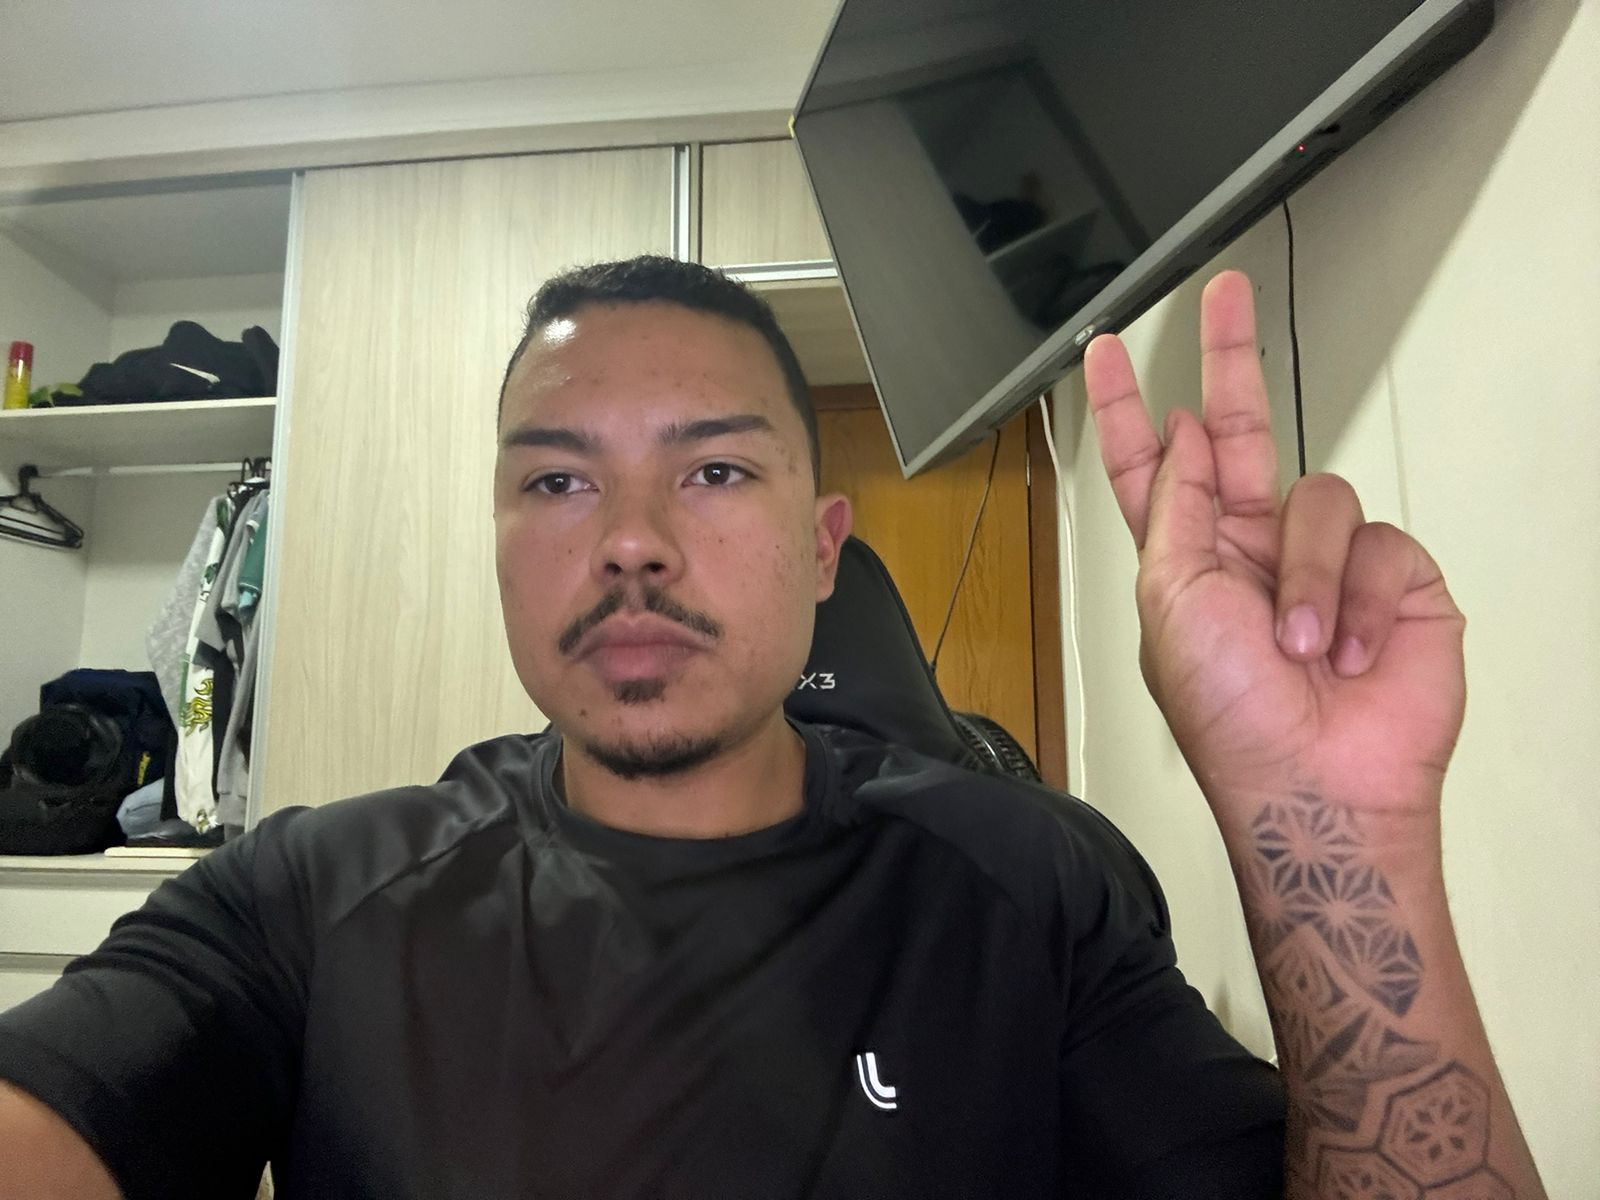k: (1078, 262, 1471, 832)
